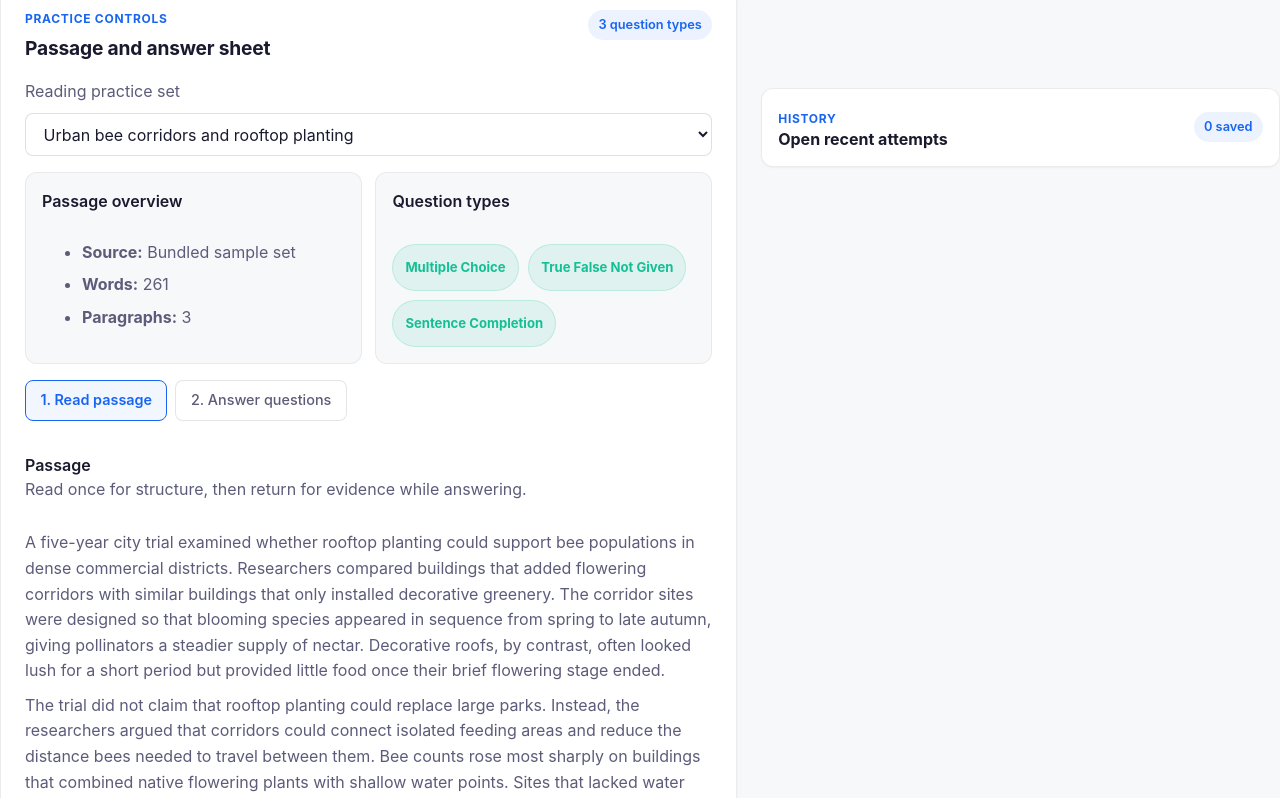
Test: ReadingPracticeShell › renders question navigation and semantic question groups before scoring
This screenshot has width=1280, height=798.
(page scrolled)
Click the tab "2. Answer questions". click: [261, 400]
box: [176, 380, 347, 421]
(page scrolled)
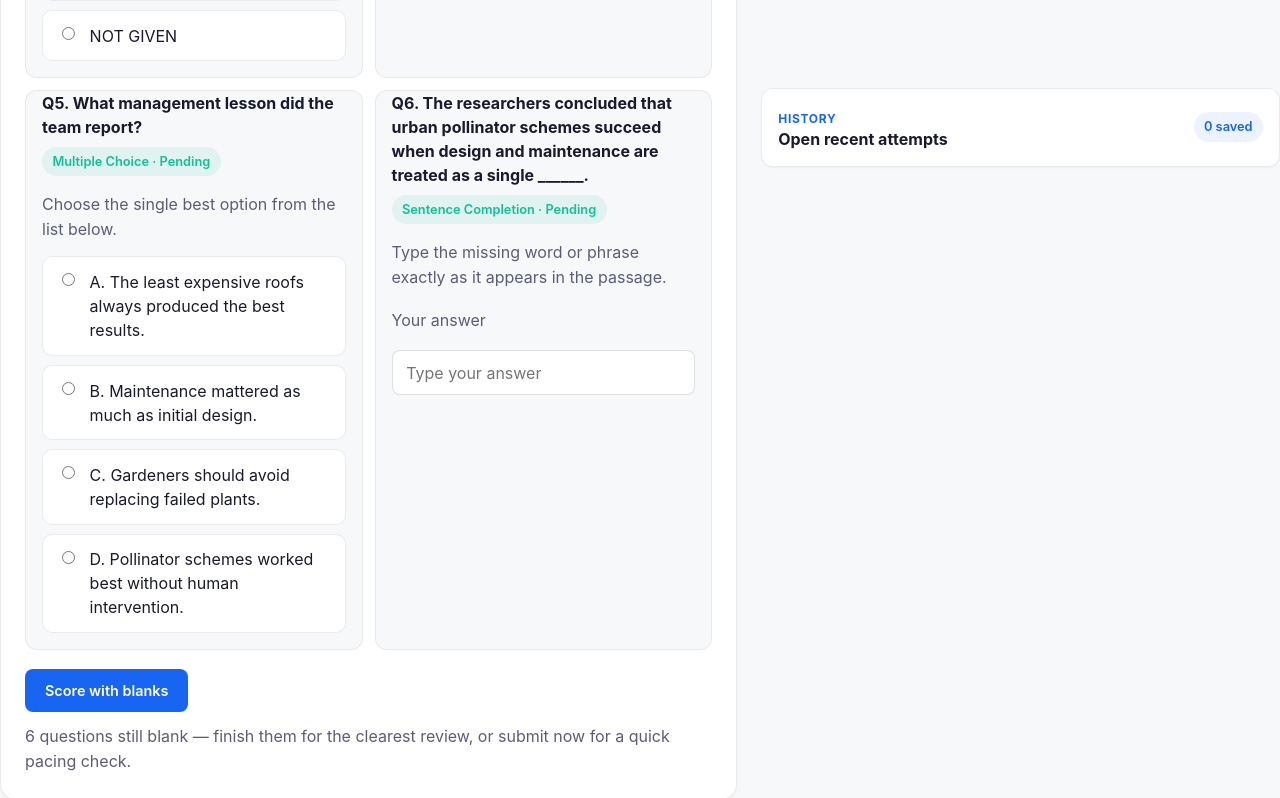
Now the button "Score with blanks" is shown, box [25, 669, 188, 712]
